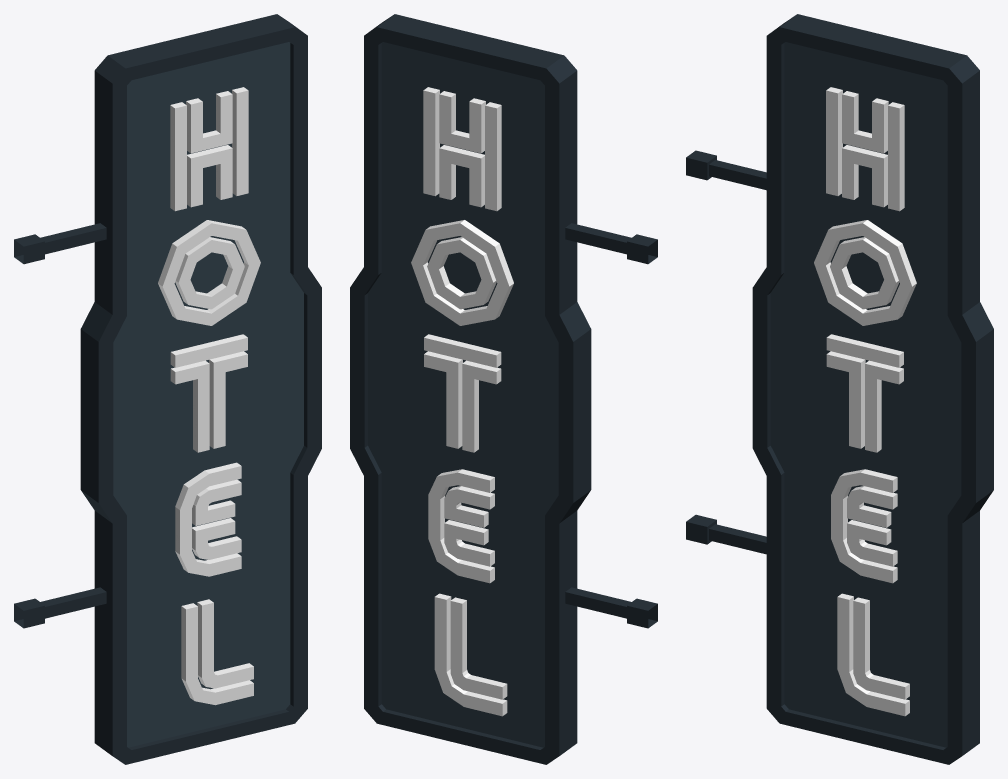
Rendered from SM_Buildings_Part_60.fbx.
3 views of the same model, side by side, from view 1: azimuth 30°, elevation 25°; view 2: azimuth 150°, elevation 25°; view 3: azimuth 330°, elevation 25° (orthographic).
Visible parts, largest first — view 1: SM_Buildings_Part_60; view 2: SM_Buildings_Part_60; view 3: SM_Buildings_Part_60.
Boxes of the visible parts, bbox=[...] form: SM_Buildings_Part_60: bbox=[14, 14, 321, 764]; SM_Buildings_Part_60: bbox=[350, 14, 657, 764]; SM_Buildings_Part_60: bbox=[686, 14, 993, 764].
Bounding box in the file's own units: 57.47 × 130 × 7.03.
